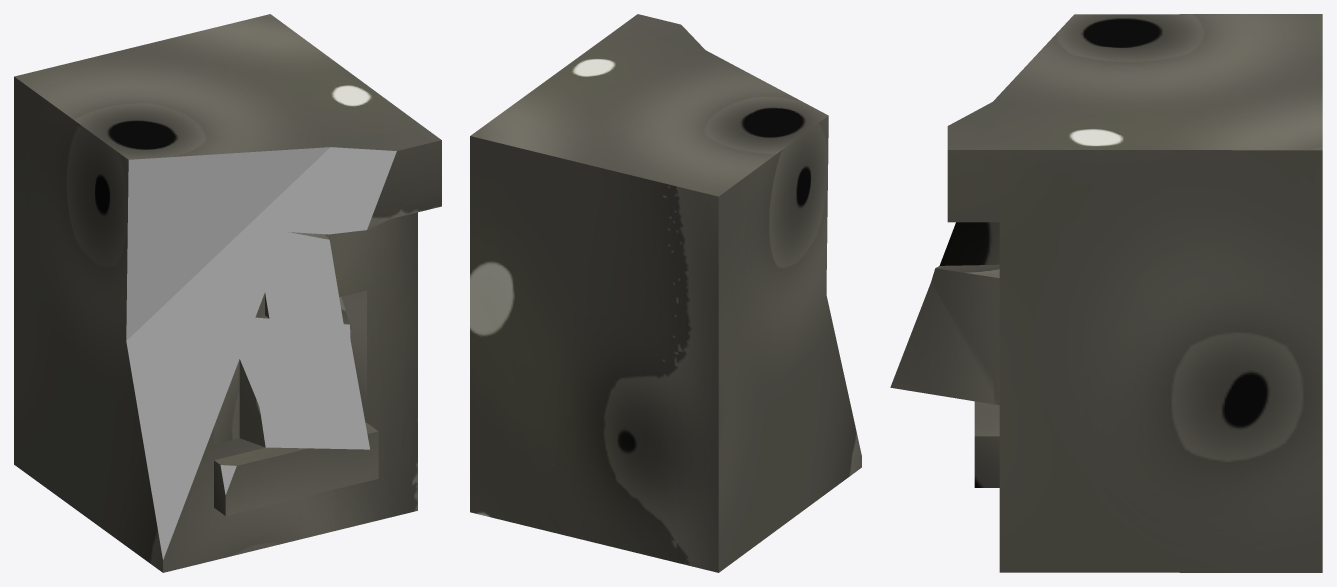
Rendered from easterIslandPhase2.fbx.
The picture shows the model from 3 angles, left to right: view 1: azimuth 30°, elevation 25°; view 2: azimuth 150°, elevation 25°; view 3: azimuth 270°, elevation 25°; orthographic projection. The views are drawn at different scales.
Parts seen in each view (by area): view 1: shard8, shard1, shard3, shard4, shard9, shard6, shard5; view 2: shard3, shard1, shard4, shard7, shard6, shard5, shard8; view 3: shard1, shard5, shard6, shard7, shard8, shard3, shard9.
Part boxes in pixels (x1=…): shard8: x1=123, y1=226, x2=378, y2=572; shard1: x1=98, y1=14, x2=440, y2=289; shard3: x1=14, y1=56, x2=226, y2=400; shard4: x1=14, y1=314, x2=125, y2=543; shard9: x1=248, y1=140, x2=441, y2=305; shard6: x1=333, y1=360, x2=417, y2=530; shard5: x1=338, y1=274, x2=417, y2=410; shard3: x1=534, y1=114, x2=828, y2=426; shard1: x1=470, y1=14, x2=825, y2=184; shard4: x1=575, y1=297, x2=825, y2=572; shard7: x1=470, y1=260, x2=653, y2=474; shard6: x1=470, y1=451, x2=714, y2=571; shard5: x1=470, y1=155, x2=627, y2=310; shard8: x1=824, y1=296, x2=861, y2=494; shard1: x1=948, y1=16, x2=1322, y2=314; shard5: x1=991, y1=172, x2=1322, y2=463; shard6: x1=981, y1=353, x2=1322, y2=572; shard7: x1=1105, y1=347, x2=1322, y2=530; shard8: x1=890, y1=236, x2=999, y2=487; shard3: x1=1073, y1=14, x2=1322, y2=58; shard9: x1=946, y1=102, x2=999, y2=248.
Size of the model in its own units: 2.67 by 3.86 by 3.58.
